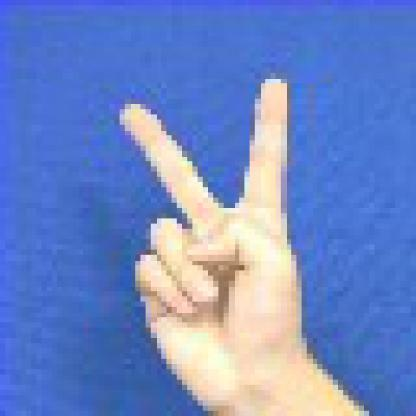two: (99, 67, 338, 410)
